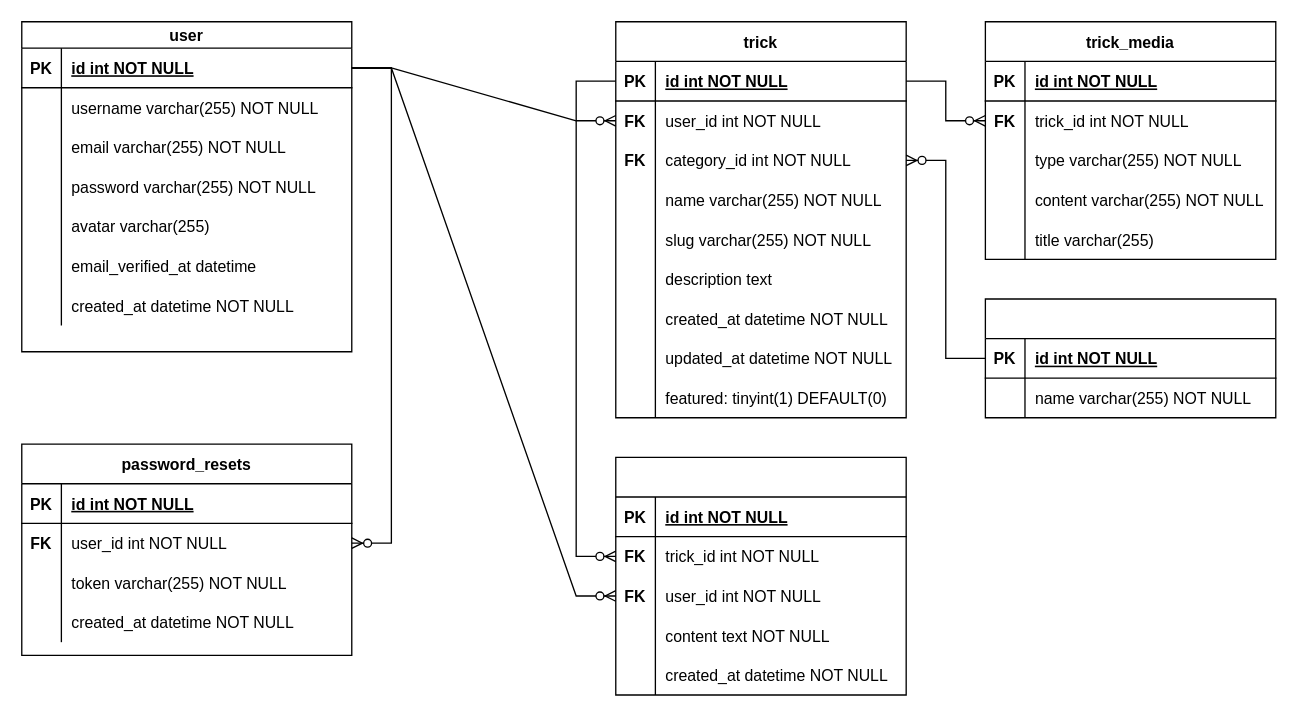
Some shapes in this 1298 by 717 pixel diagram are drawn without their labels. Here are the shapes that lost their labels. From the top down, the box of each, then its label:
(984, 298, 1276, 418): category
(614, 456, 906, 695): trick_comment
